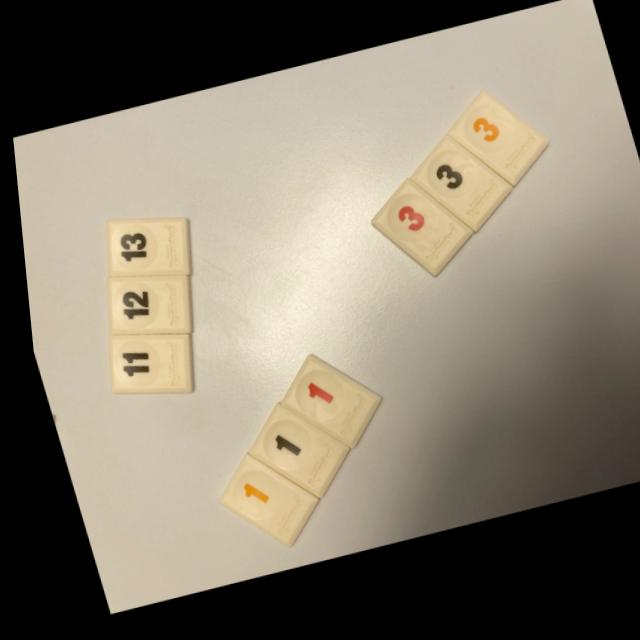black_1: (241, 406, 339, 500)
black_11: (101, 335, 185, 394)
black_12: (102, 276, 184, 335)
black_13: (103, 219, 185, 278)
black_3: (409, 140, 508, 237)
orange_1: (209, 456, 308, 549)
orange_3: (445, 95, 546, 191)
red_1: (274, 357, 372, 451)
red_3: (368, 182, 468, 280)
